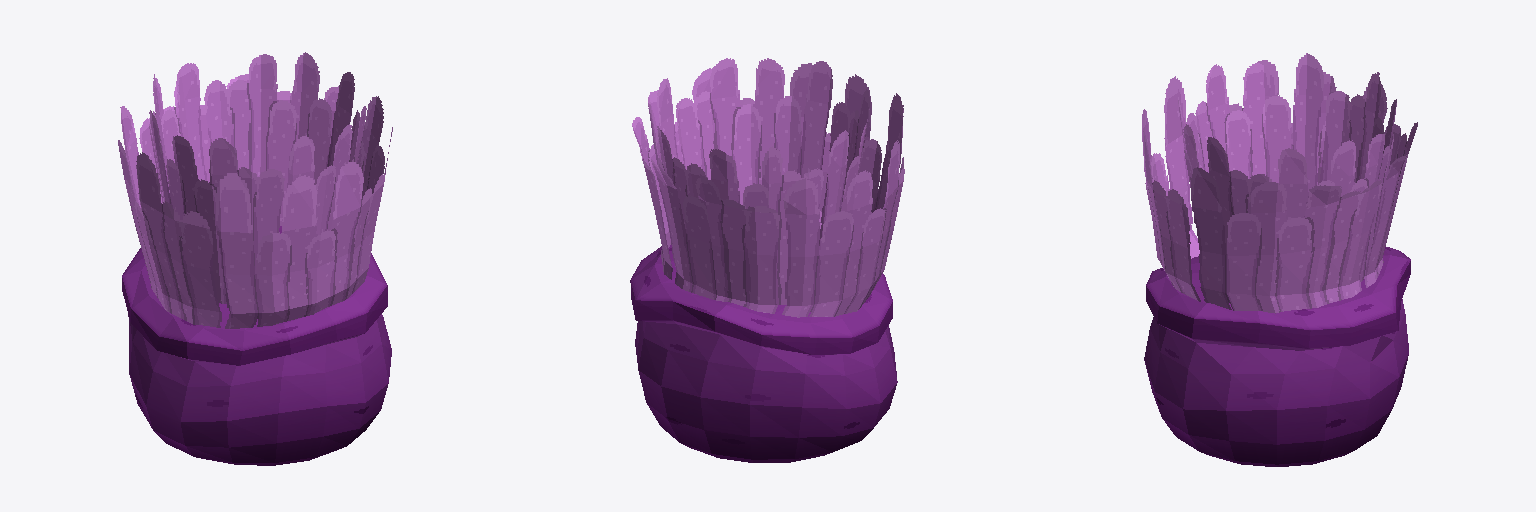
The picture shows the model from 3 angles: view 1: azimuth 30°, elevation 25°; view 2: azimuth 150°, elevation 25°; view 3: azimuth 270°, elevation 25°; orthographic projection.
Parts seen in each view (by area): view 1: Anemone; view 2: Anemone; view 3: Anemone.
Boxes of the visible parts, x1=… form: Anemone: x1=118, y1=52, x2=392, y2=465; Anemone: x1=630, y1=58, x2=904, y2=462; Anemone: x1=1142, y1=53, x2=1417, y2=466.
Bounding box in the file's own units: 5.87 × 8.01 × 5.86.
2 materials, 2 textured.